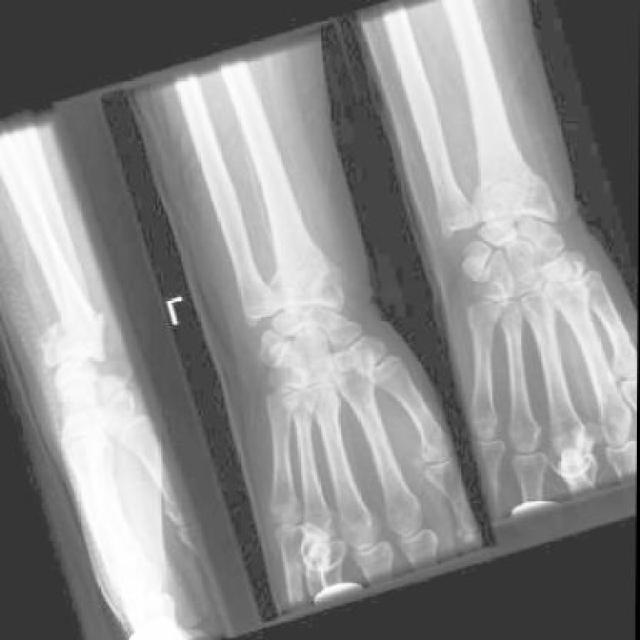Fracture: (31, 299, 122, 364), (269, 251, 348, 305), (473, 165, 550, 216)
